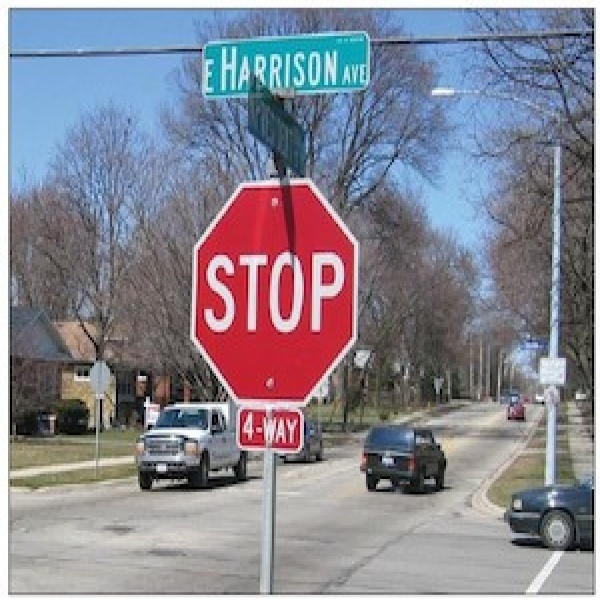stop: (409, 259, 485, 381)
